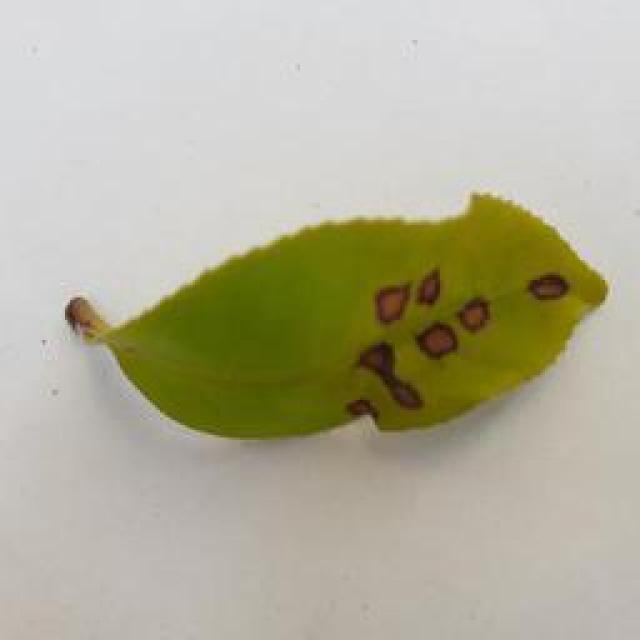Helopeltis: (70, 182, 610, 448)
